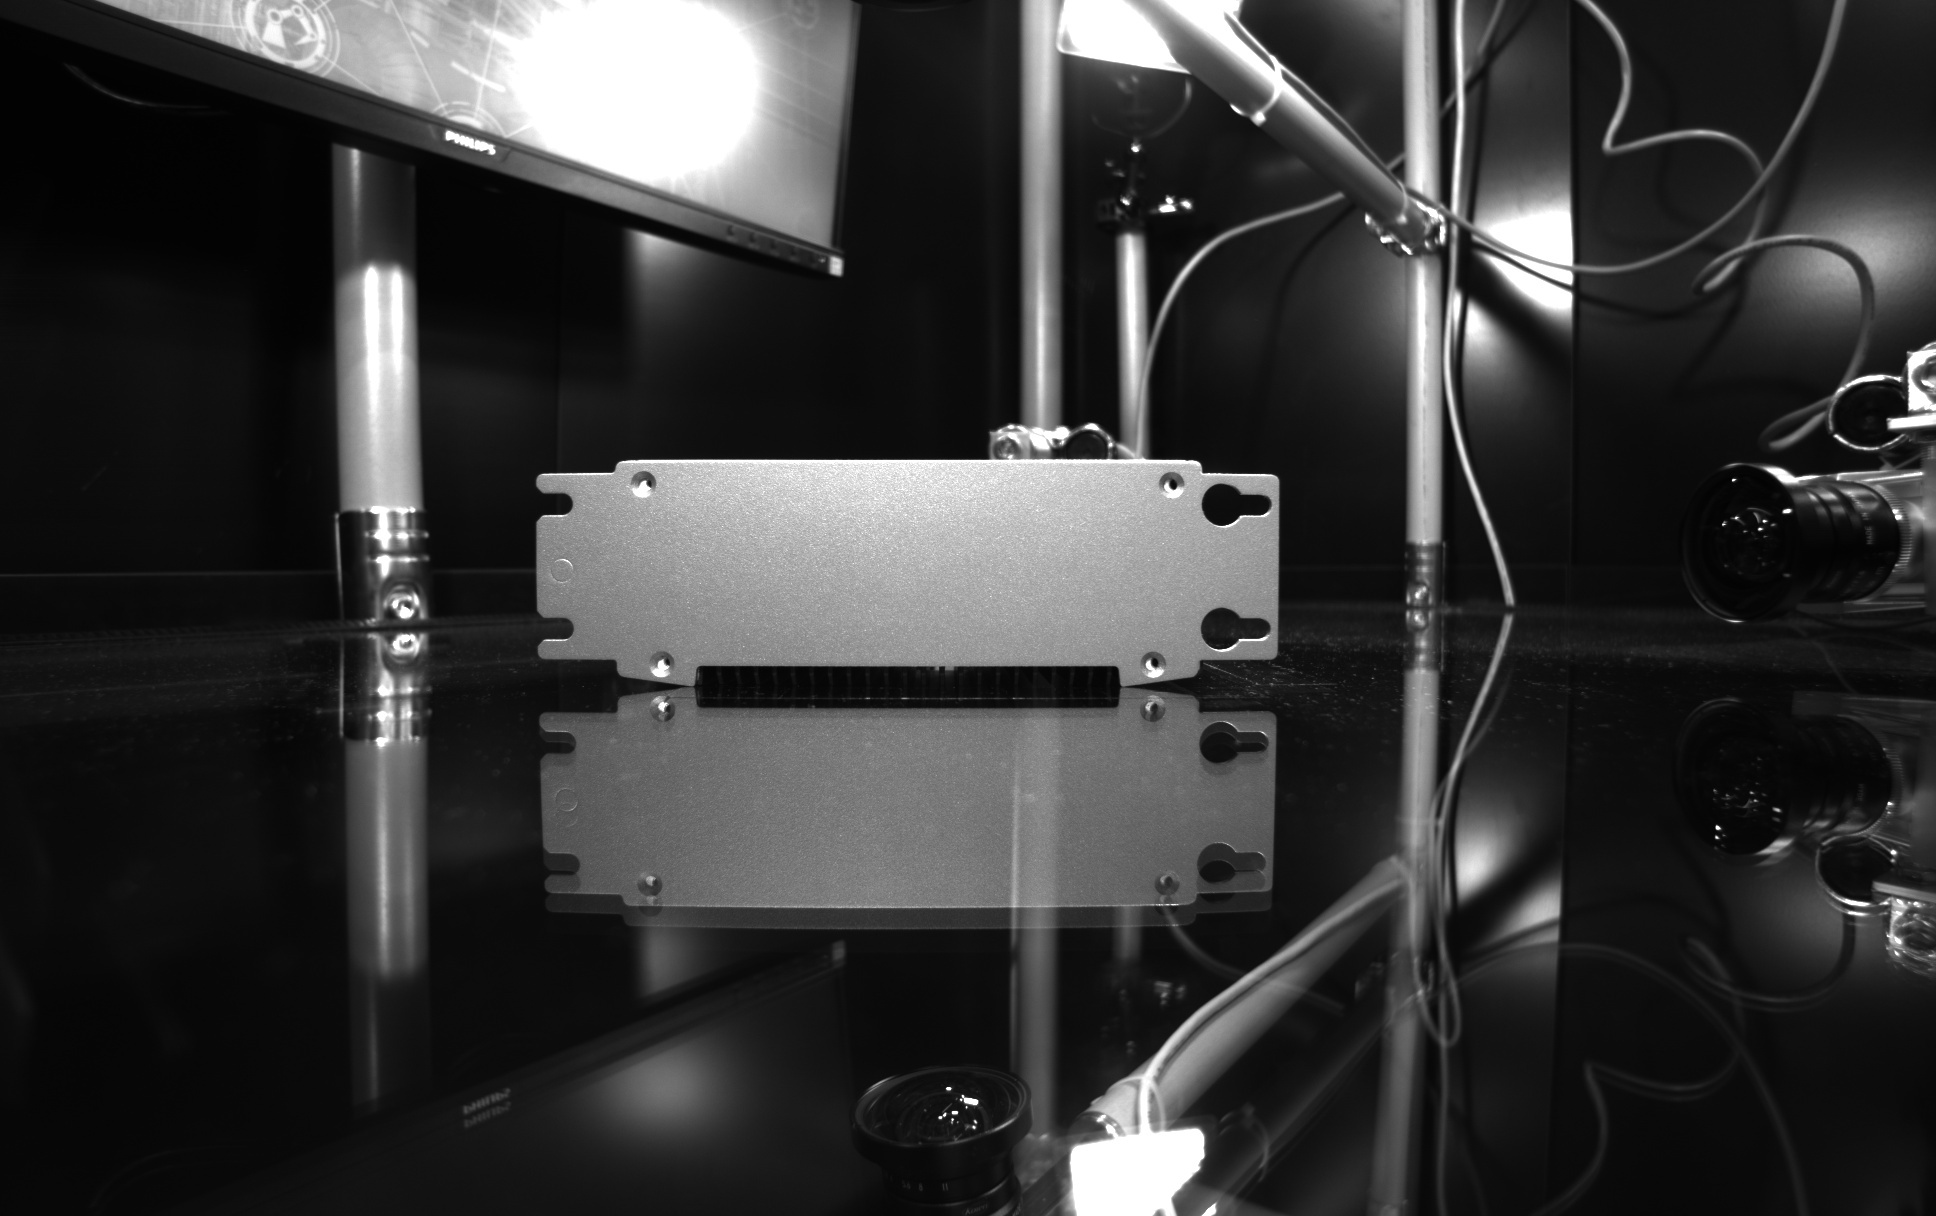CamBack: (516, 434, 1308, 686)
Loch: (1152, 464, 1192, 506), (623, 462, 663, 502), (642, 644, 681, 684), (1135, 646, 1173, 686)
